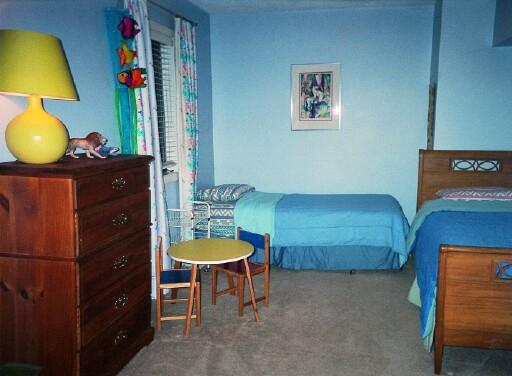Armario: (71, 165, 151, 370)
Cama: (416, 153, 511, 372), (206, 182, 413, 270)
